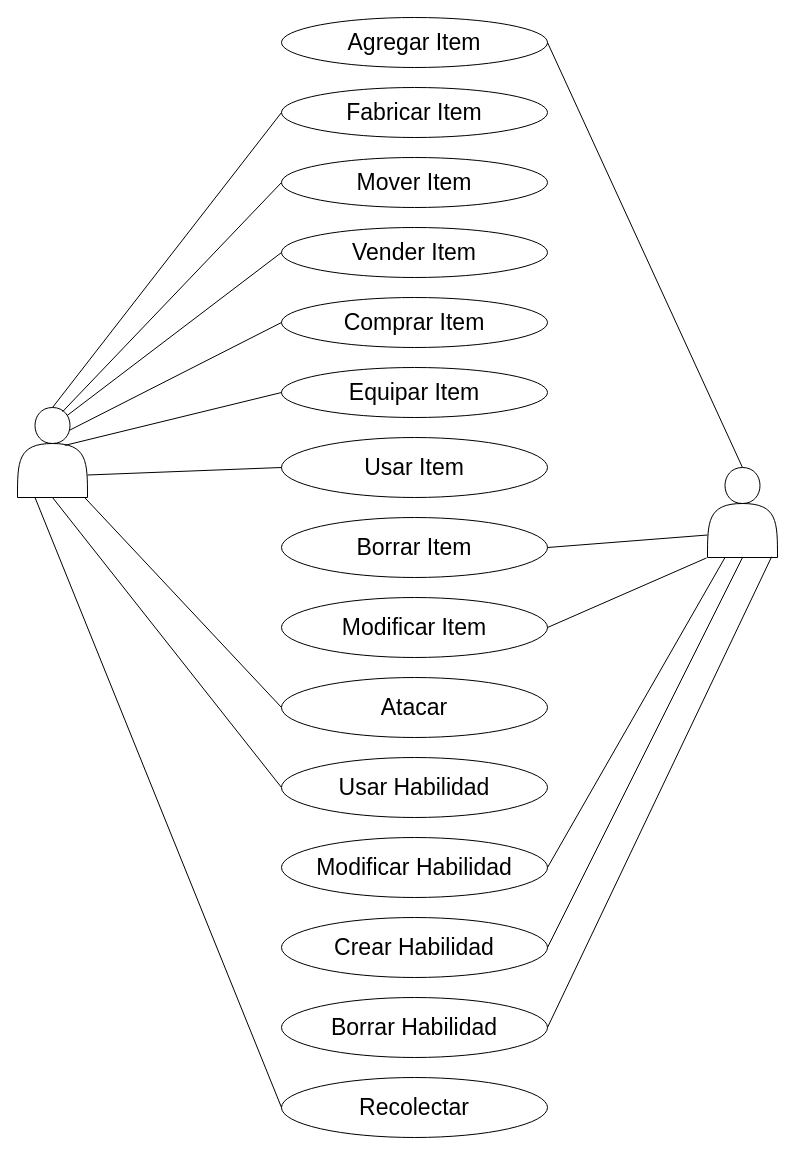
The diagram is 795 pixels wide and 1155 high, and some of its shapes have lost their labels. The shapes that lost their labels are listed below. From the top down, each one's centre as x and y in pixels, then its label:
(52,452): Jugador
(742,512): Admin
